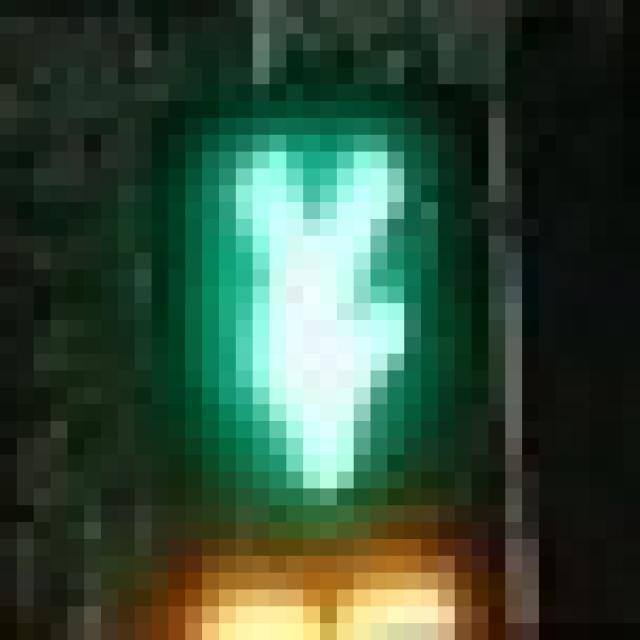geen-crossing: (118, 84, 472, 522)
